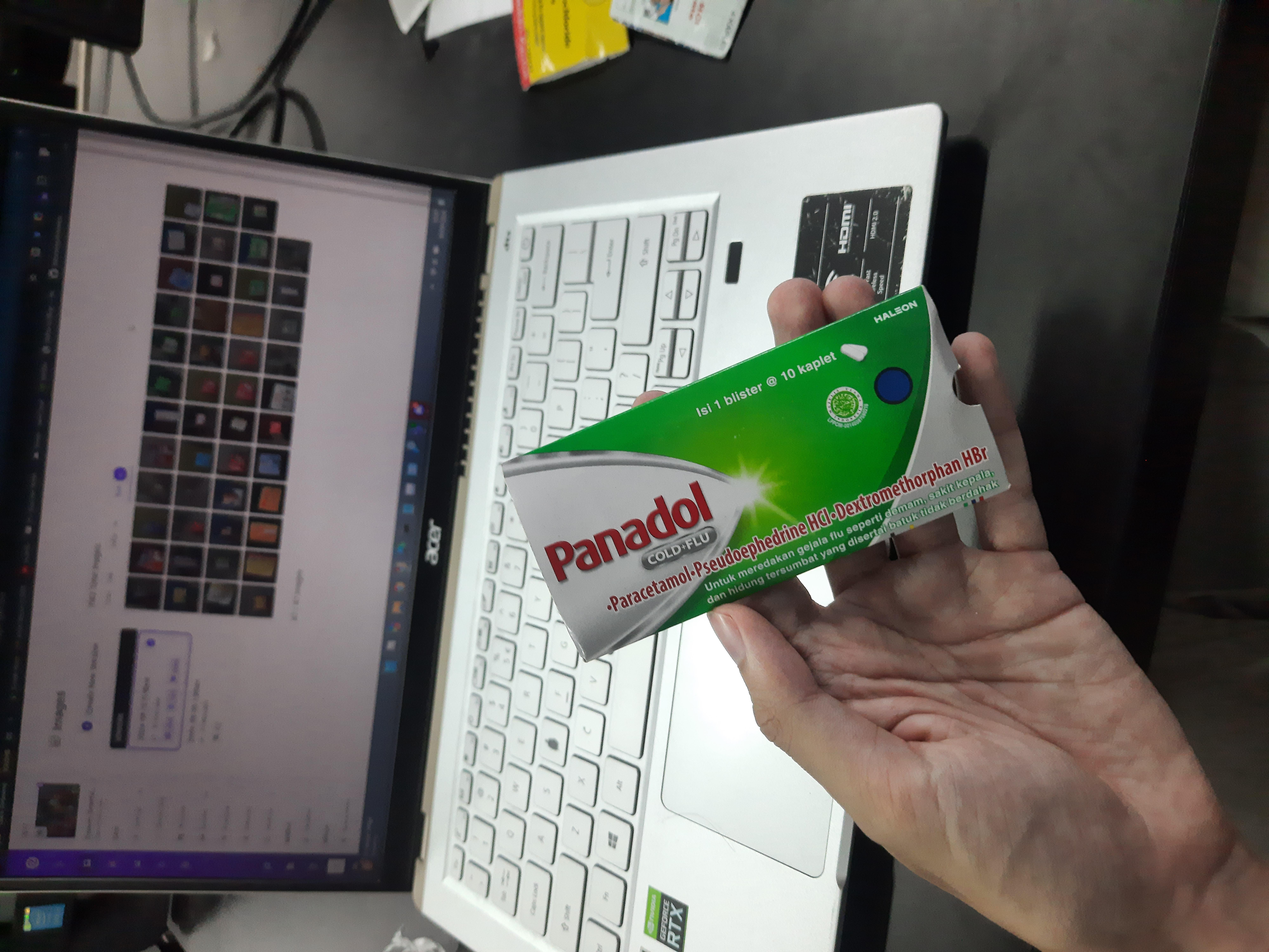Panadol Cold Flu: (387, 376, 888, 758)
